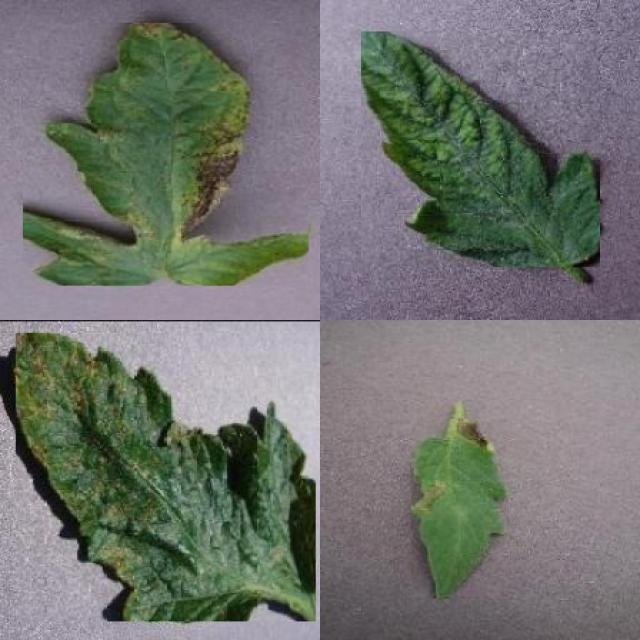Late Blight: (412, 418, 508, 598)
Mosaic Virus: (360, 32, 600, 267)
Septoria: (16, 333, 316, 621), (24, 23, 309, 286)
